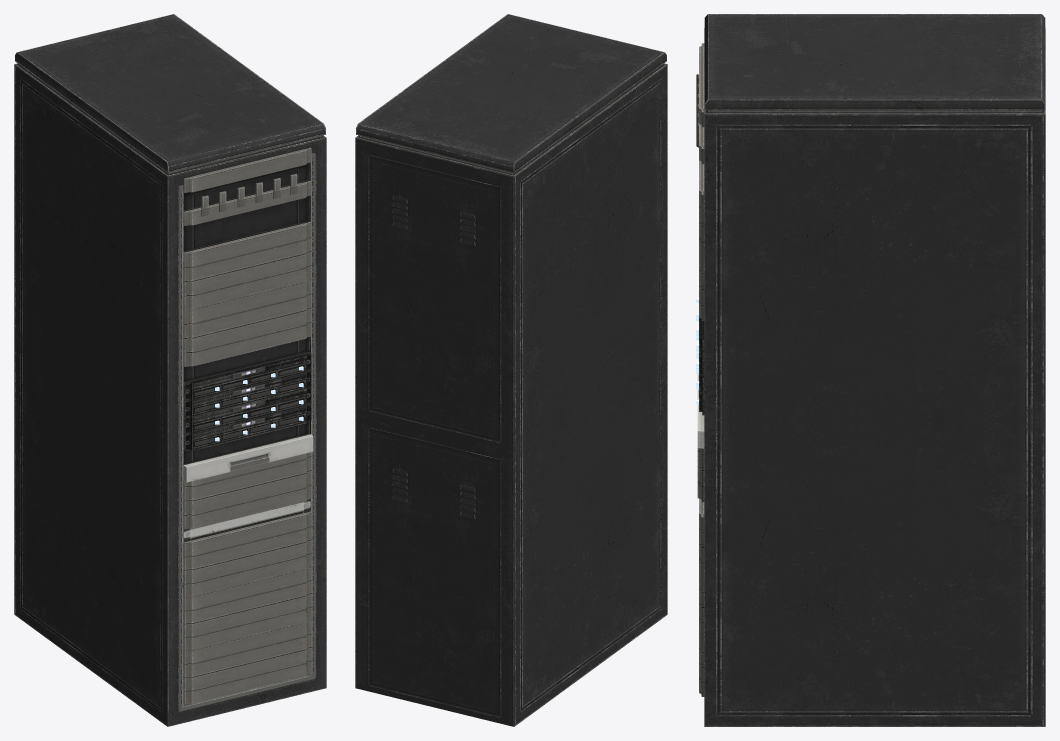
The picture shows the model from 3 angles, left to right: view 1: azimuth 30°, elevation 25°; view 2: azimuth 150°, elevation 25°; view 3: azimuth 270°, elevation 25°; orthographic projection. The views are drawn at different scales.
Parts seen in each view (by area): view 1: LODGroup_1_MainMesh_2_SubMesh_1.010; view 2: LODGroup_1_MainMesh_2_SubMesh_1.010; view 3: LODGroup_1_MainMesh_2_SubMesh_1.010.
Boxes of the visible parts, x1,y1,x2,y2 form: LODGroup_1_MainMesh_2_SubMesh_1.010: (14,14,326,726); LODGroup_1_MainMesh_2_SubMesh_1.010: (355,14,667,726); LODGroup_1_MainMesh_2_SubMesh_1.010: (696,14,1045,726).
Bounding box in the file's own units: 63.03 × 214 × 108.
